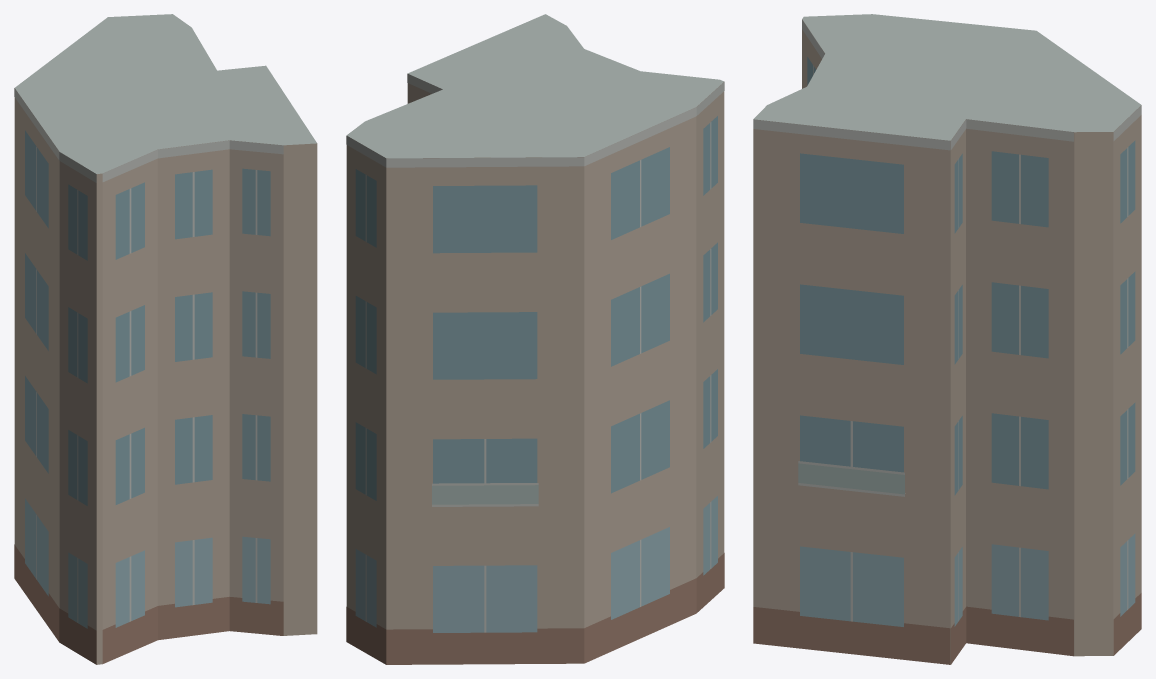
File: survey-upis-33043394.glb
The picture shows the model from 3 angles, left to right: view 1: azimuth 30°, elevation 25°; view 2: azimuth 150°, elevation 25°; view 3: azimuth 270°, elevation 25°; orthographic projection. The views are drawn at different scales.
Parts seen in each view (by area): view 1: survey-upis-33043394.tmp; view 2: survey-upis-33043394.tmp; view 3: survey-upis-33043394.tmp.
Boxes of the visible parts, <box> form: survey-upis-33043394.tmp: <box>14,14,317,664</box>; survey-upis-33043394.tmp: <box>346,14,724,664</box>; survey-upis-33043394.tmp: <box>753,14,1141,664</box>.
Bounding box in the file's own units: 6.88 × 13.25 × 8.91.
